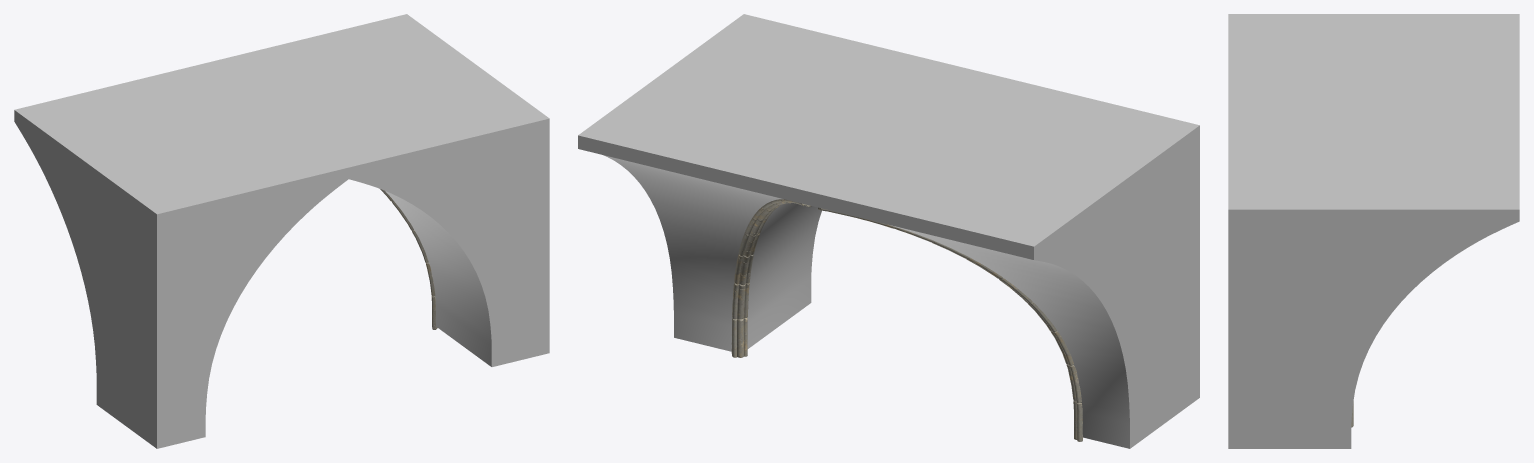
The model's file is SM_VaultCeiling_01.fbx.
3 views of the same model, side by side, from view 1: azimuth 30°, elevation 25°; view 2: azimuth 150°, elevation 25°; view 3: azimuth 270°, elevation 25° (orthographic). The views are drawn at different scales.
Parts seen in each view (by area): view 1: SM_VaultCeiling_01_LOD0; view 2: SM_VaultCeiling_01_LOD0; view 3: SM_VaultCeiling_01_LOD0.
Part boxes in pixels (<box>): SM_VaultCeiling_01_LOD0: <box>14,14,549,448</box>; SM_VaultCeiling_01_LOD0: <box>578,14,1199,448</box>; SM_VaultCeiling_01_LOD0: <box>1228,14,1519,448</box>.
Bounding box in the file's own units: 1270 × 800 × 737.
2 materials, 1 textured.
